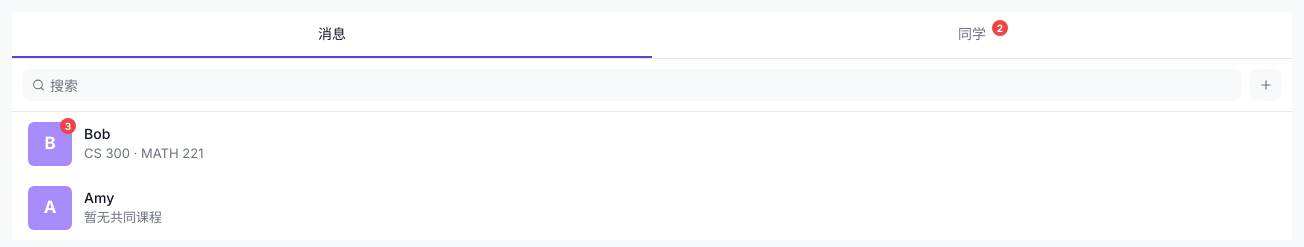
Test: InboxList › 按名字筛选
In the search field named "按名字筛选": (632, 85) top-left (22, 69), bottom-right (1242, 101), type "am"
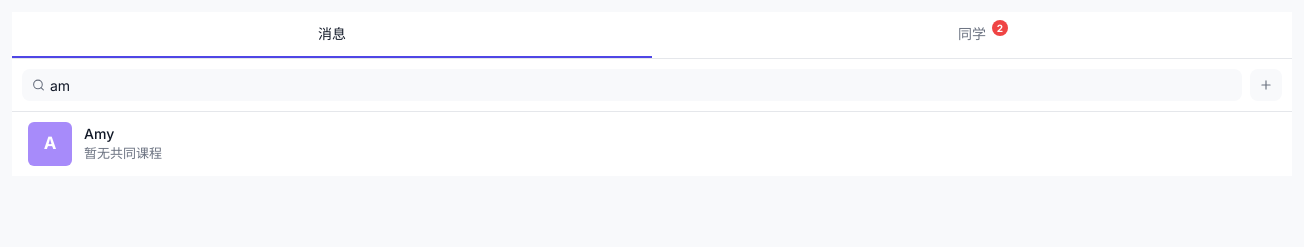
Expected: the link "A Amy 暂无共同课程" is shown, top-left (28, 122), bottom-right (162, 166)
Now the link "Bob" is gone
